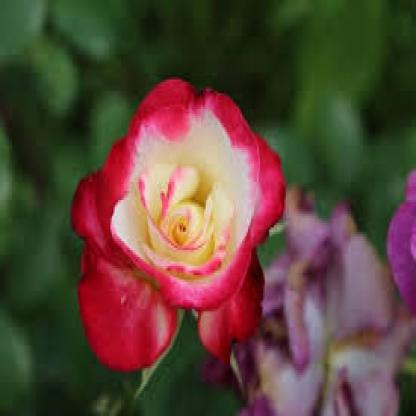Rose-Mawar: (65, 62, 292, 392)
